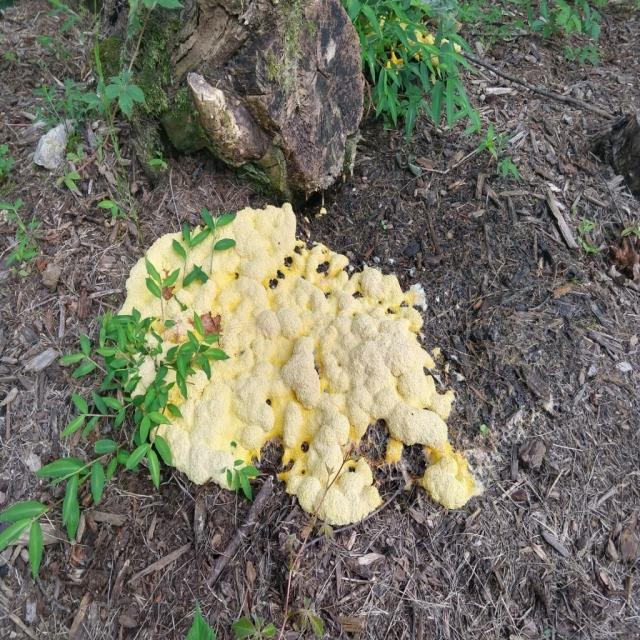Dog_vomit_slime_mold: (100, 162, 503, 560)
